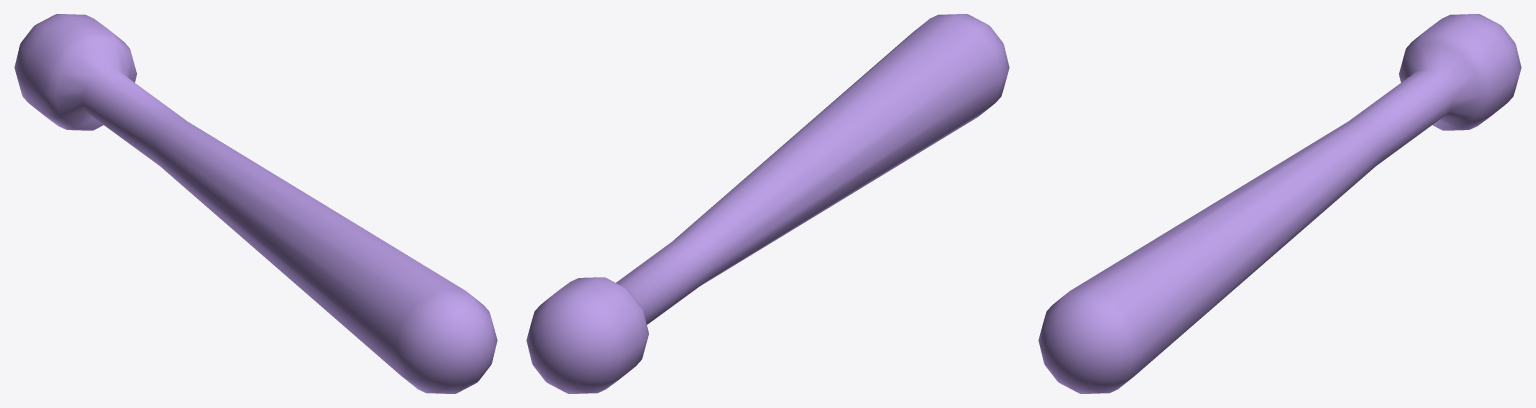
File: CharacterBat.DAE
The picture shows the model from 3 angles, left to right: view 1: azimuth 30°, elevation 25°; view 2: azimuth 150°, elevation 25°; view 3: azimuth 330°, elevation 25°; orthographic projection.
Visible parts, largest first — view 1: Bat; view 2: Bat; view 3: Bat.
Part boxes in pixels (left/top/right/bottom): Bat: left=14, top=14, right=497, bottom=393; Bat: left=526, top=14, right=1009, bottom=393; Bat: left=1038, top=14, right=1521, bottom=393.
Bounding box in the file's own units: 2 × 15.45 × 2.
